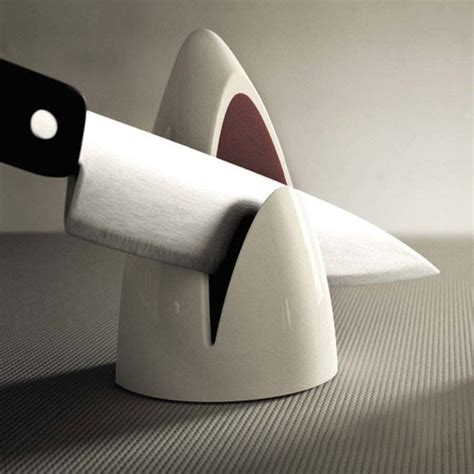knife: (1, 56, 444, 280)
